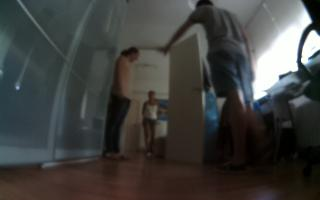person: (159, 1, 272, 185), (103, 40, 142, 166), (139, 82, 163, 166)
